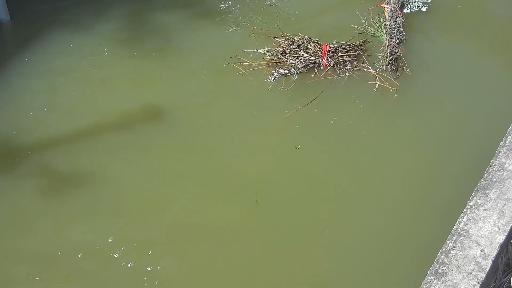twig: (351, 0, 439, 100), (230, 21, 367, 74)
